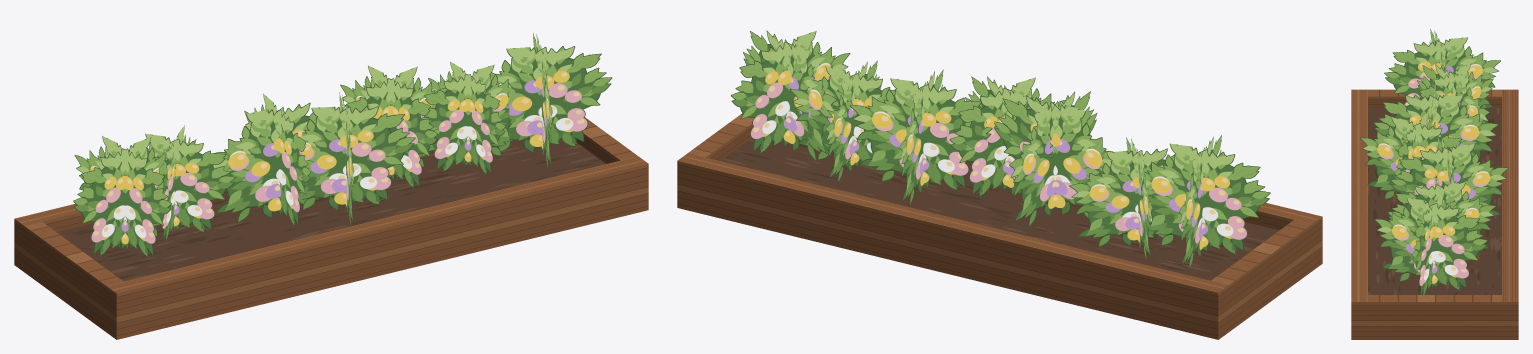
The model's file is flower_bed.glb.
3 views of the same model, side by side, from view 1: azimuth 30°, elevation 25°; view 2: azimuth 150°, elevation 25°; view 3: azimuth 270°, elevation 25° (orthographic). The views are drawn at different scales.
Visible parts, largest first — view 1: flower_bed; view 2: flower_bed; view 3: flower_bed.
Boxes of the visible parts, x1,y1,x2,y2 form: flower_bed: (14,33,648,339); flower_bed: (677,30,1322,339); flower_bed: (1351,29,1518,339).
Size of the model in its own units: 2.43 by 0.6204 by 0.8.
Materials: 1 (1 with a texture image).
